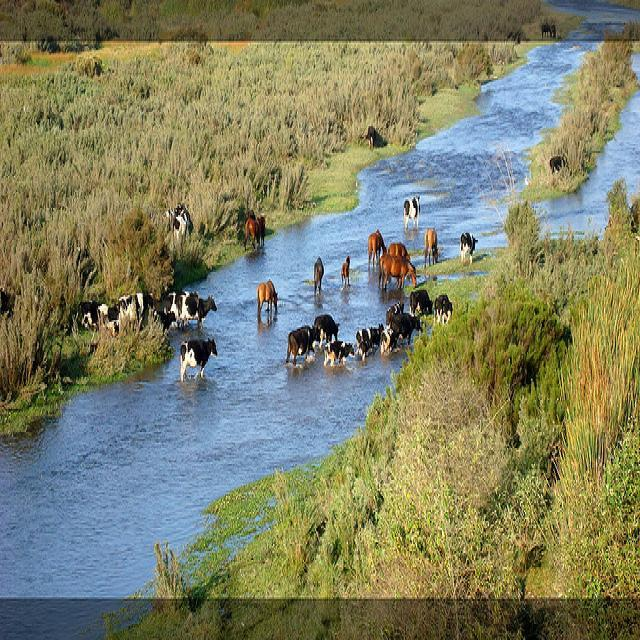cow: (74, 153, 577, 359), (178, 334, 218, 379), (176, 291, 216, 329), (284, 324, 319, 365), (117, 291, 151, 329), (323, 340, 354, 368), (408, 286, 434, 313), (402, 191, 419, 230), (314, 313, 339, 339), (459, 229, 478, 263), (152, 308, 174, 333), (385, 297, 403, 327)
